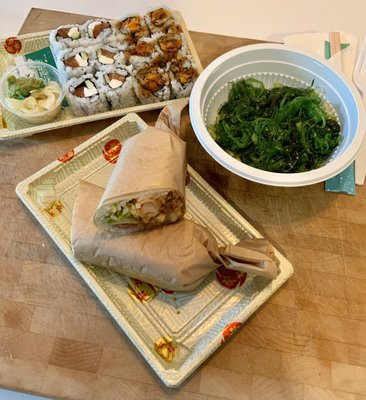curry: (212, 76, 343, 173)
soup: (93, 126, 187, 231)
sushi: (189, 44, 364, 188), (0, 56, 65, 123)
